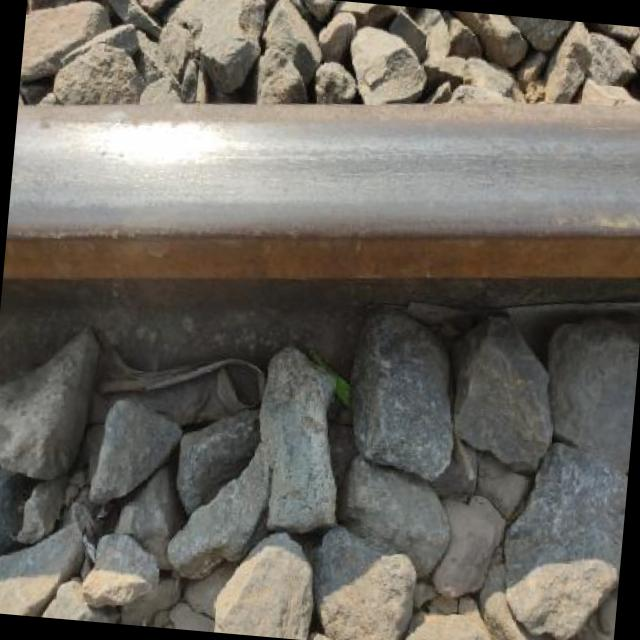non-defective: (0, 34, 640, 457)
